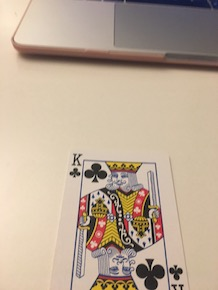KingOfClubs: (49, 144, 195, 290)
